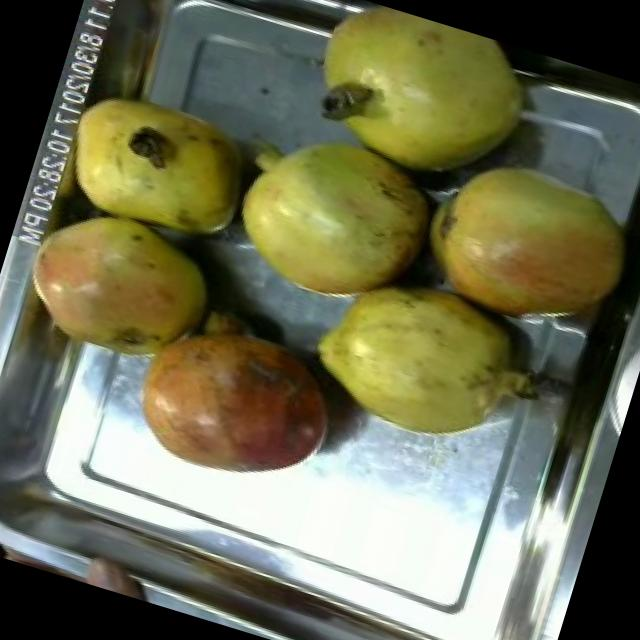fruit: (207, 87, 470, 340), (384, 108, 640, 364), (290, 246, 574, 475), (111, 293, 362, 505), (0, 188, 232, 386), (38, 69, 275, 258)
